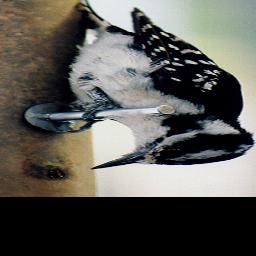Woodpecker: (55, 0, 256, 169)
